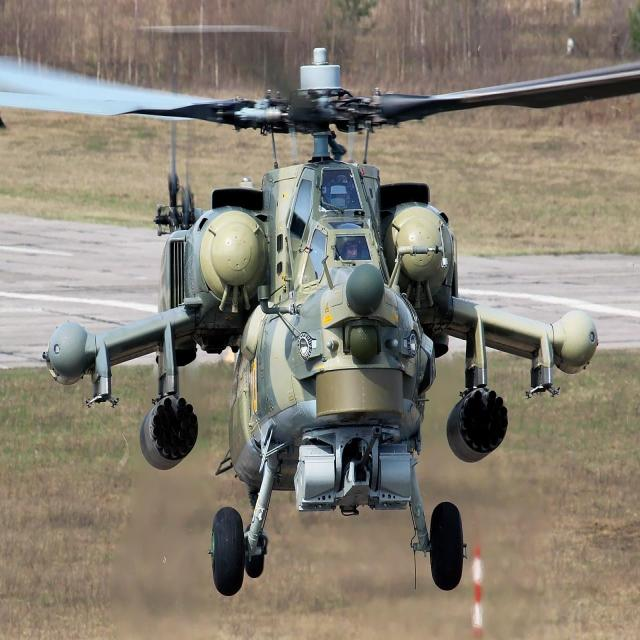MIL_HELO: (11, 45, 640, 605)
